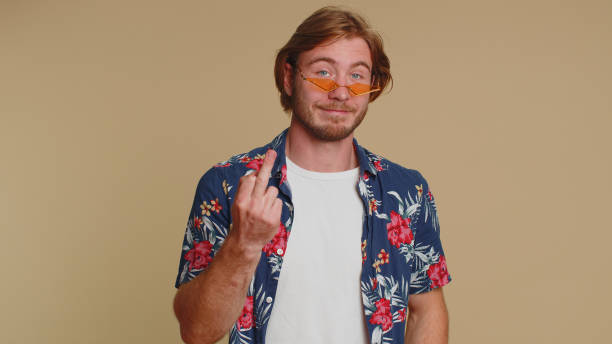insulting_gesture: (230, 146, 282, 253)
